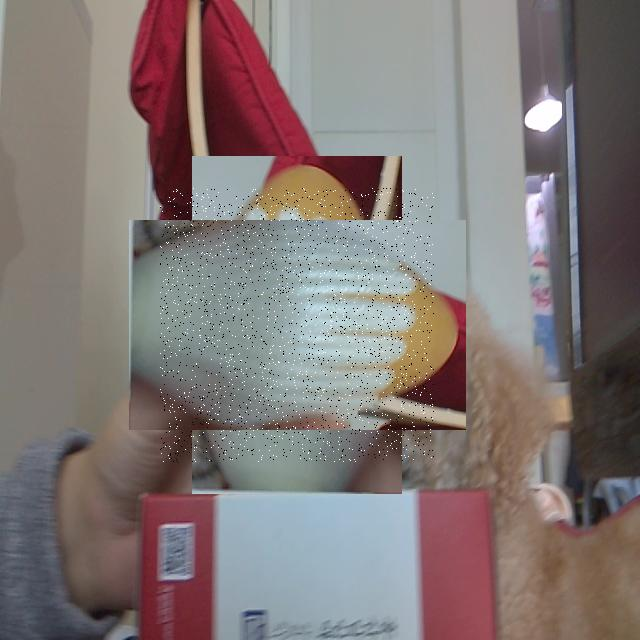pear: (160, 188, 434, 462)
